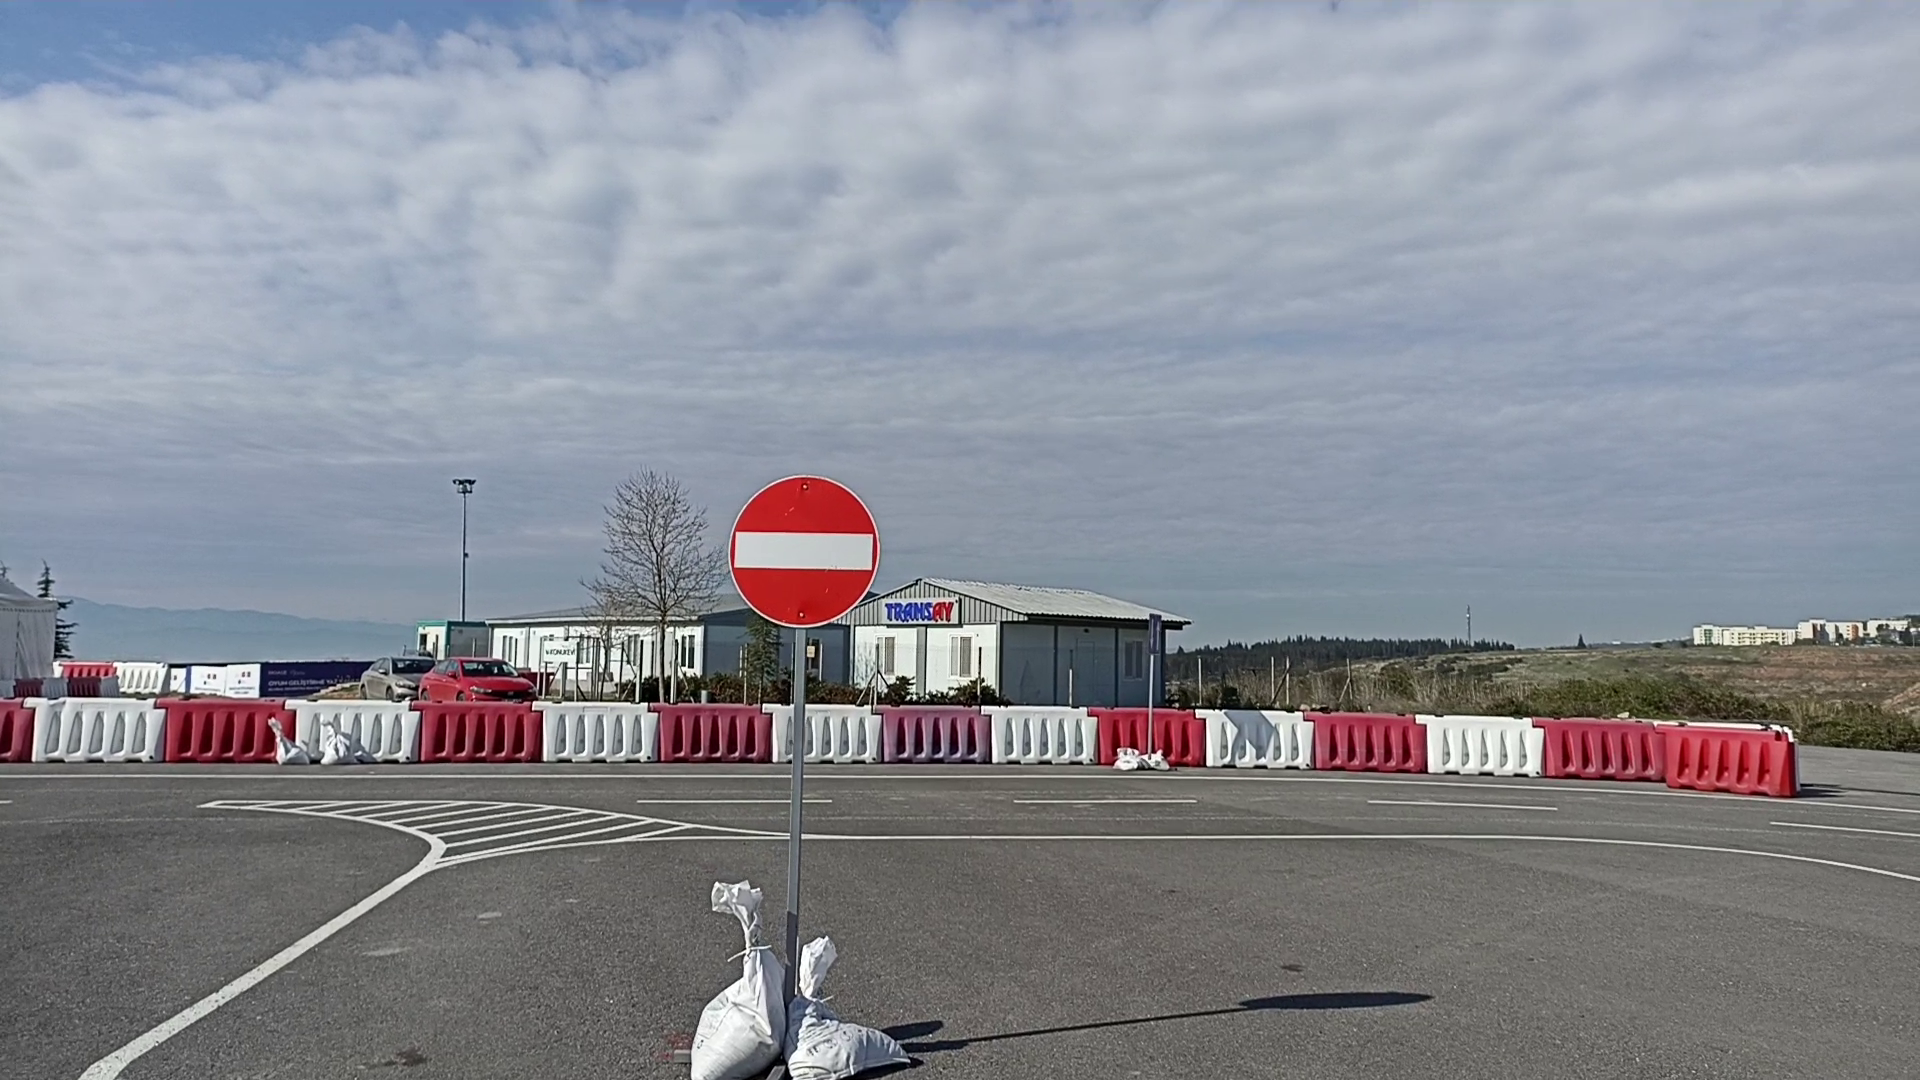noentryway: (725, 471, 885, 632)
